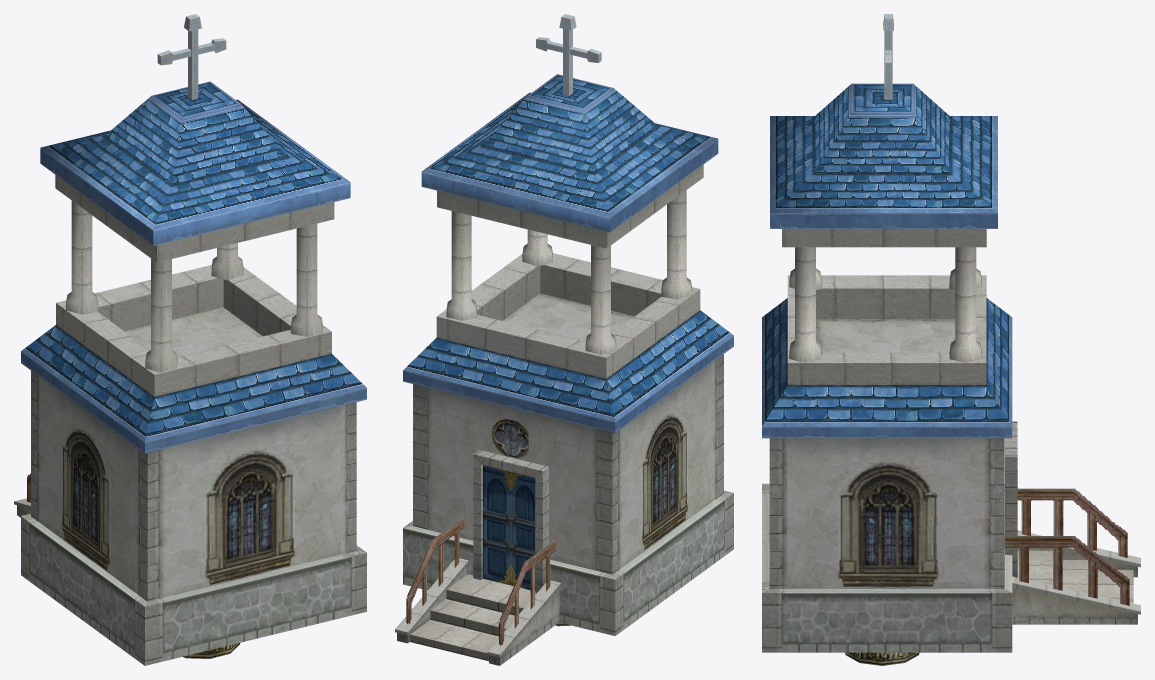
3 renders of one model, left to right at view 1: azimuth 30°, elevation 25°; view 2: azimuth 150°, elevation 25°; view 3: azimuth 270°, elevation 25°, orthographic. The views are drawn at different scales.
Parts seen in each view (by area): view 1: geom_node_0, geom_node_1; view 2: geom_node_0, geom_node_1; view 3: geom_node_0, geom_node_1, geom_node_2.
Part boxes in pixels (x1,y1,x2,y2): geom_node_0: (14,265,366,665); geom_node_1: (40,14,350,372); geom_node_0: (395,253,733,665); geom_node_1: (421,14,718,354); geom_node_0: (762,275,1140,652); geom_node_1: (770,14,997,362); geom_node_2: (845,652,919,665).
Size of the model in its own units: 4.13 by 11.12 by 6.05.
8 materials, 8 textured.
